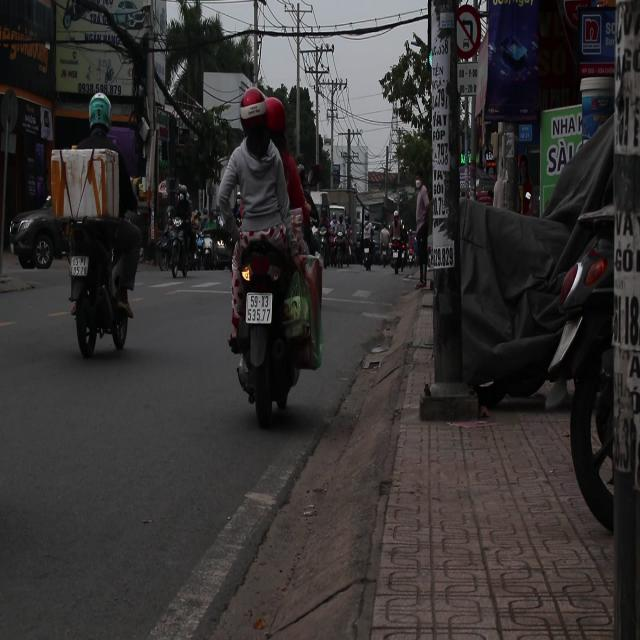car: (7, 199, 104, 271)
motorbike: (226, 222, 314, 419), (70, 222, 135, 358), (169, 218, 203, 279), (199, 218, 234, 273), (156, 226, 176, 271), (392, 245, 408, 274)
